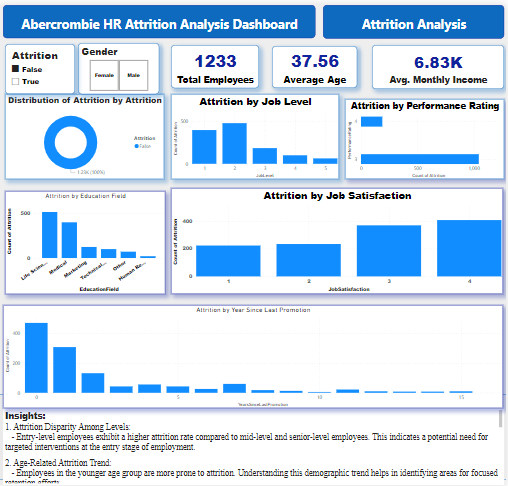

This screenshot's page, from the dashboard's own definition file:
{"tool":"powerbi","page":{"name":"Attrition Analysis","canvas":[1268,1200],"ordinal":1},"visuals":[{"type":"shape","box":[0,972.5,1280,215],"z":0},{"type":"textbox","box":[10.3,0,780.6,83.5],"z":1000},{"type":"clusteredColumnChart","title":"Attrition by Job Level","fields":{"Category":["attrition_data.JobLevel"],"Y":["CountNonNull(attrition_data.Attrition)"]},"box":[430,222.5,420,212.5],"z":2000},{"type":"donutChart","fields":{"Category":["attrition_data.Attrition"],"Y":["CountNonNull(attrition_data.Attrition)"]},"box":[15,222.5,397.5,212.5],"z":3000},{"type":"card","fields":{"Values":["Avg(attrition_data.Age)"]},"box":[682.5,102.5,212.5,105],"z":4000},{"type":"slicer","title":"Gender","fields":{"Values":["attrition_data.Gender"]},"box":[197.5,95,202.5,127.5],"z":5000},{"type":"slicer","fields":{"Values":["attrition_data.Attrition"]},"box":[15,97.5,175,125],"z":6000},{"type":"card","fields":{"Values":["Count(attrition_data.EmployeeNumber)"]},"box":[430,100,220,107.5],"z":7000},{"type":"textbox","box":[10,1007.5,1252.5,192.5],"z":8000},{"type":"card","fields":{"Values":["Avg(attrition_data.MonthlyIncome)"]},"box":[932.5,100,330,110],"z":9000},{"type":"clusteredColumnChart","title":"Attrition by Education Field","fields":{"Category":["attrition_data.EducationField"],"Y":["CountNonNull(attrition_data.Attrition)"]},"box":[13.8,463.8,401.2,257.5],"z":10000},{"type":"clusteredColumnChart","title":"Attrition by Job Satisfaction","fields":{"Category":["attrition_data.JobSatisfaction"],"Y":["CountNonNull(attrition_data.Attrition)"]},"box":[430,457.5,830,265],"z":11000},{"type":"clusteredBarChart","title":"Attrition by Performance Rating","fields":{"Category":["attrition_data.PerformanceRating"],"Y":["CountNonNull(attrition_data.Attrition)"]},"box":[865,235,397.5,200],"z":12000},{"type":"clusteredColumnChart","title":"Attrition by Year Since Last Promotion","fields":{"Y":["CountNonNull(attrition_data.Attrition)"],"Category":["attrition_data.YearsSinceLastPromotion"]},"box":[10,750,1250,257.5],"z":13000},{"type":"textbox","box":[808.8,0,452.5,83.8],"z":16000}]}

Visuals, with their boxes in screenshot pixels (x1, y1, x2, y2), scaled from the page's 1268x1200 canvas onto the 508x486 screenshot:
shape: region(0, 394, 507, 481)
textbox: region(4, 0, 317, 34)
"Attrition by Job Level" clusteredColumnChart: region(172, 90, 341, 176)
donutChart - attrition_data.Attrition x CountNonNull(attrition_data.Attrition): region(6, 90, 165, 176)
card - Avg(attrition_data.Age): region(273, 42, 359, 84)
"Gender" slicer: region(79, 38, 160, 90)
slicer - attrition_data.Attrition: region(6, 39, 76, 90)
card - Count(attrition_data.EmployeeNumber): region(172, 40, 260, 84)
textbox: region(4, 408, 506, 485)
card - Avg(attrition_data.MonthlyIncome): region(374, 40, 506, 85)
"Attrition by Education Field" clusteredColumnChart: region(6, 188, 166, 292)
"Attrition by Job Satisfaction" clusteredColumnChart: region(172, 185, 505, 293)
"Attrition by Performance Rating" clusteredBarChart: region(347, 95, 506, 176)
"Attrition by Year Since Last Promotion" clusteredColumnChart: region(4, 304, 505, 408)
textbox: region(324, 0, 505, 34)
